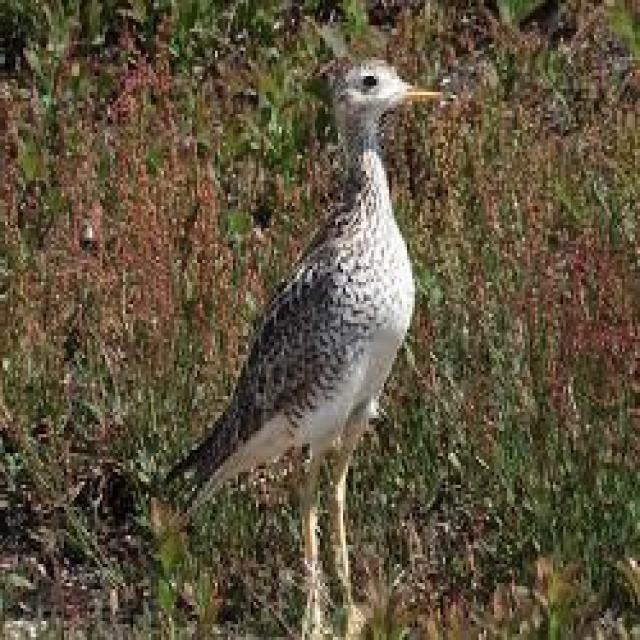sandpiper: (169, 60, 440, 570)
